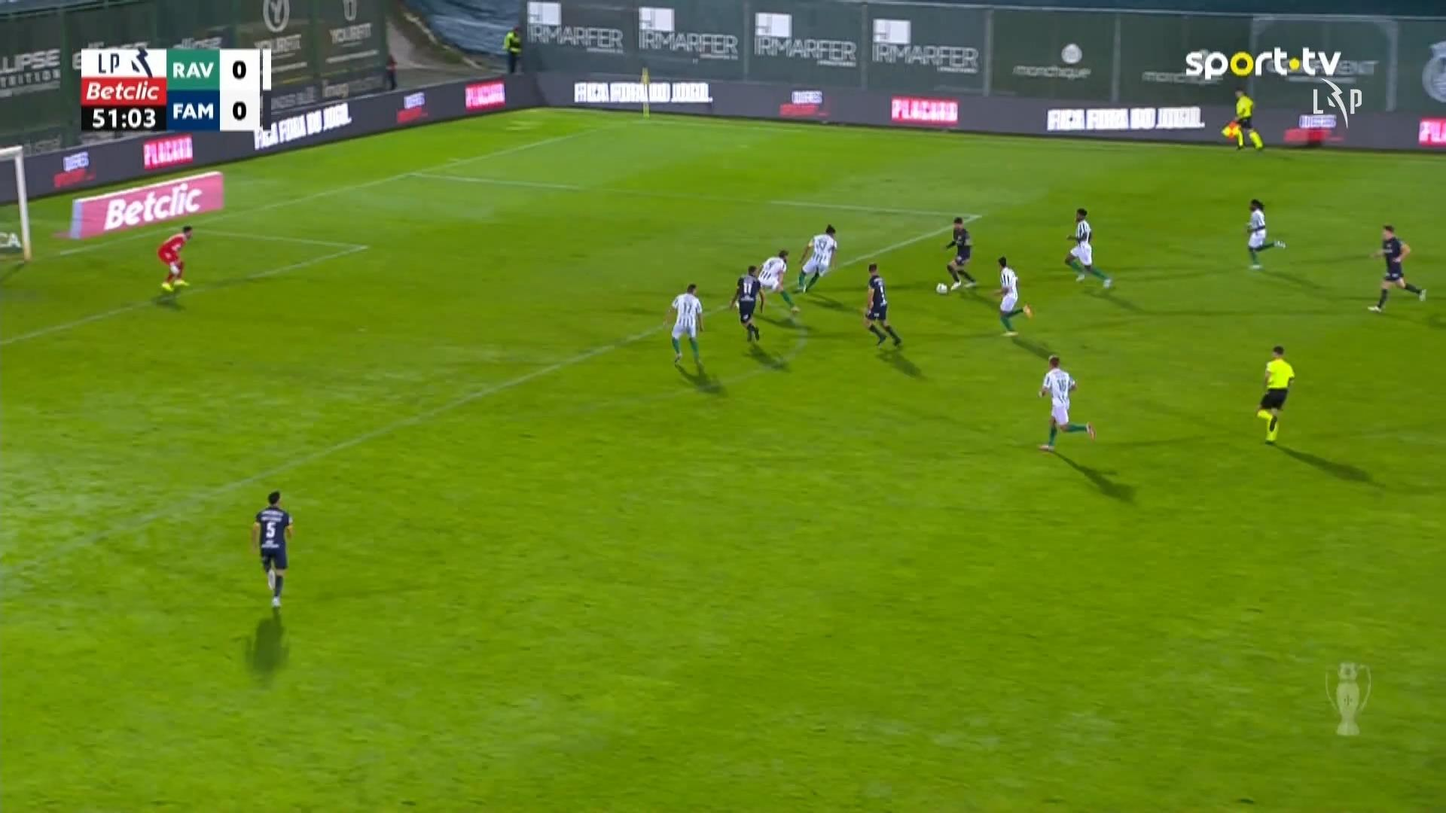ball: (935, 281, 949, 297)
goalkeeper: (155, 225, 196, 294)
player: (252, 490, 302, 609), (1367, 223, 1429, 316), (1063, 208, 1113, 290), (661, 281, 705, 368), (861, 262, 904, 347), (1241, 199, 1287, 271), (793, 224, 839, 294), (993, 257, 1031, 340), (755, 250, 799, 315), (944, 215, 982, 290), (728, 266, 765, 343)
referee: (1255, 341, 1297, 446), (1219, 89, 1269, 151)
